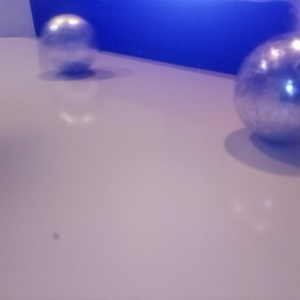alive_ball: (229, 263, 300, 300)
dead_ball: (256, 105, 300, 273)
